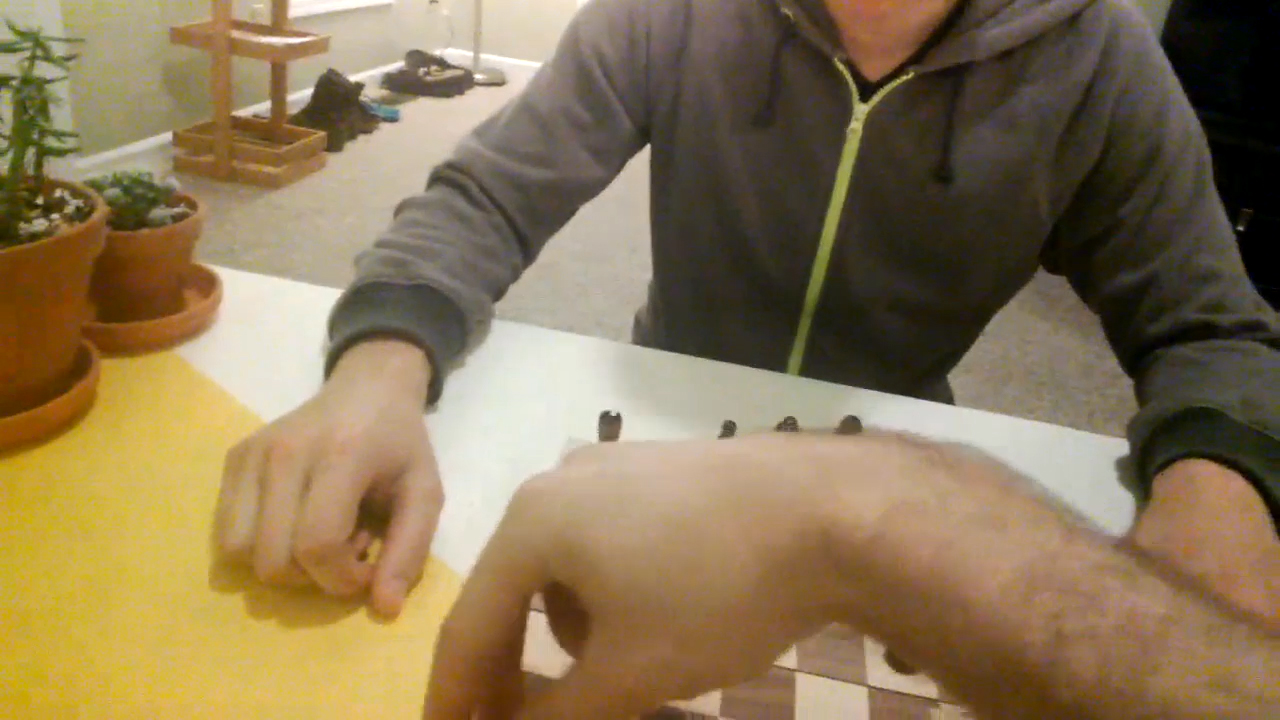hand: (430, 445, 952, 717), (219, 383, 438, 605), (1127, 494, 1278, 621)
